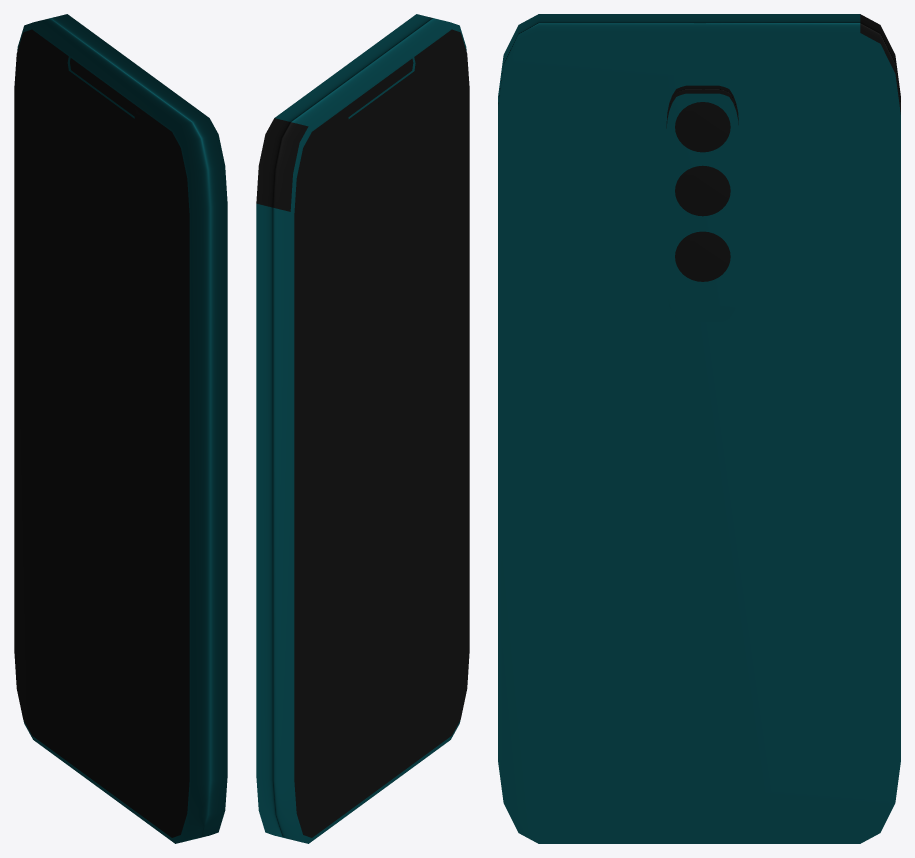
The model's file is celular.glb.
The picture shows the model from 3 angles, left to right: view 1: azimuth 30°, elevation 25°; view 2: azimuth 150°, elevation 25°; view 3: azimuth 270°, elevation 25°; orthographic projection. The views are drawn at different scales.
Parts seen in each view (by area): view 1: Cubo.022; view 2: Cubo.022; view 3: Cubo.022.
Boxes of the visible parts, box(x1,y1,x2,y2) form: Cubo.022: box(14, 14, 227, 843); Cubo.022: box(256, 14, 469, 843); Cubo.022: box(498, 14, 900, 843).
Bounding box in the file's own units: 0.1011 × 1.33 × 0.5992.
